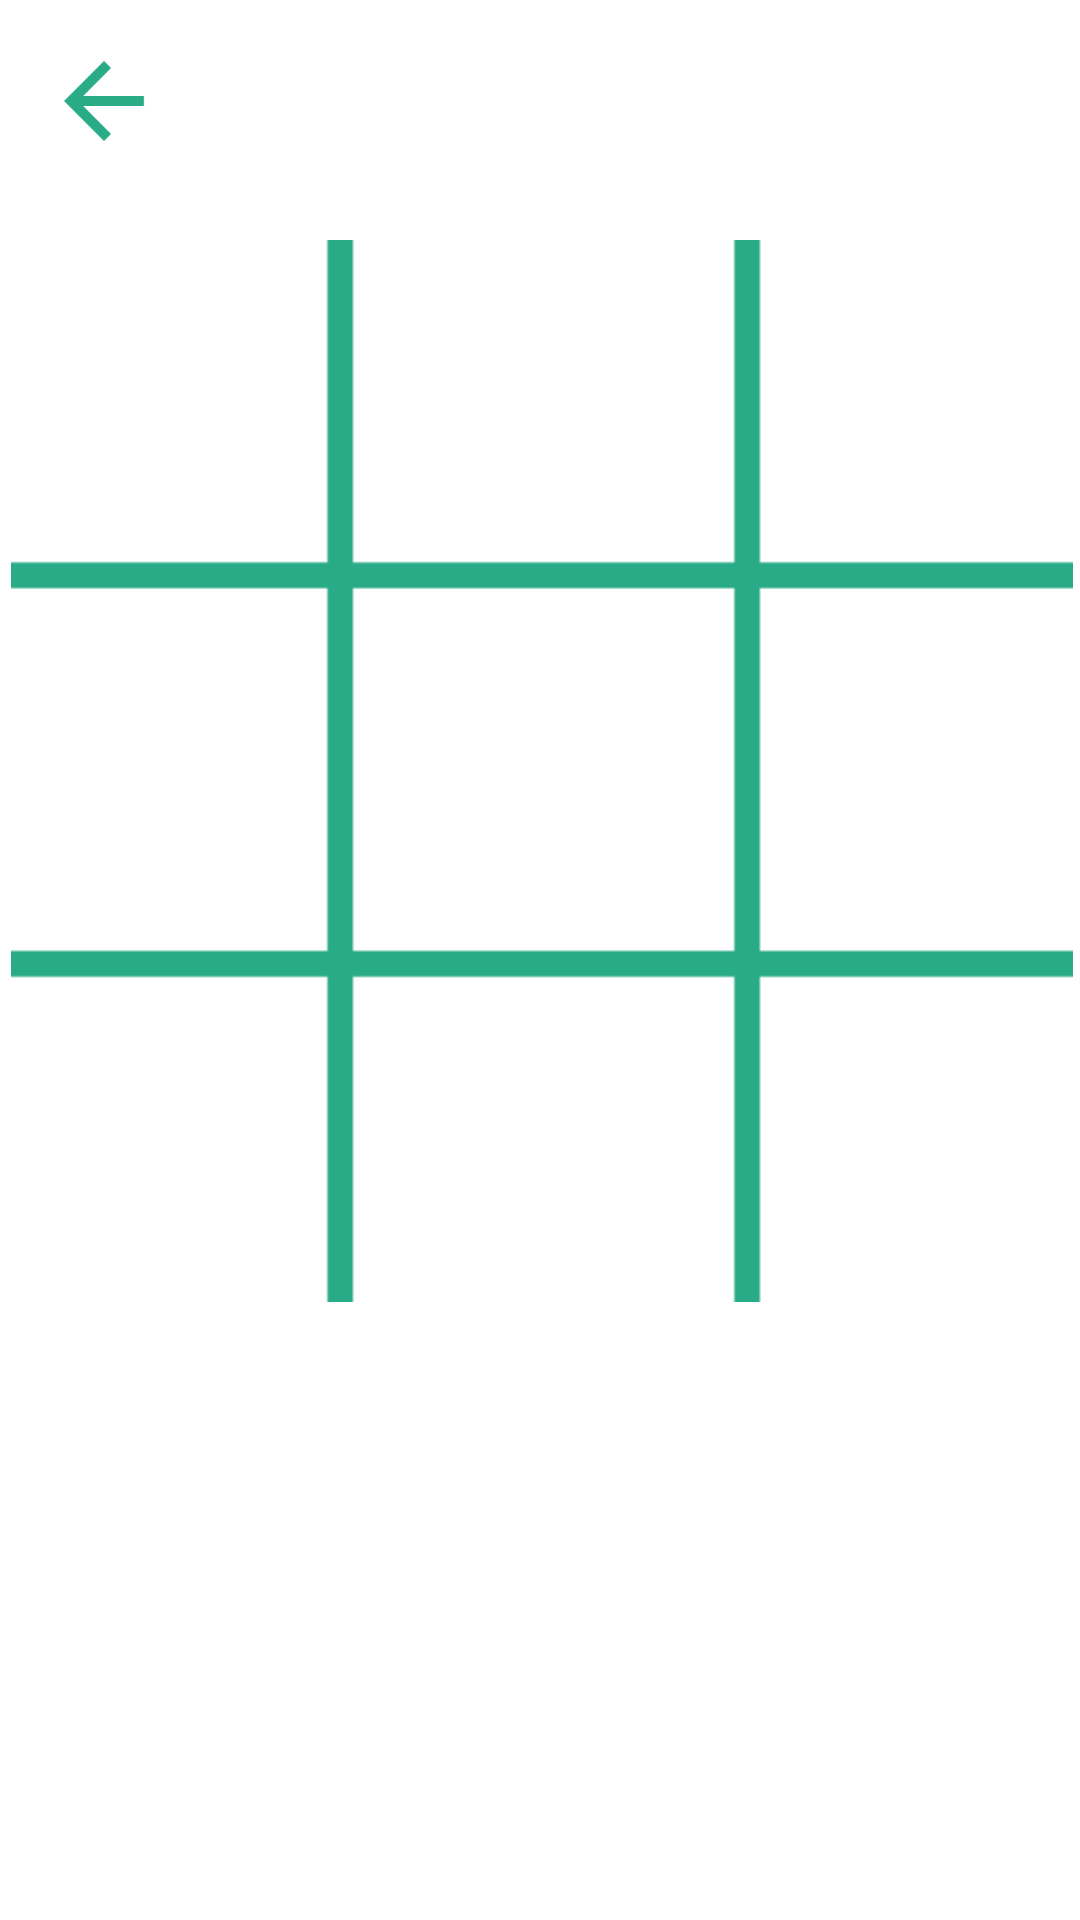

Icons on this 1080px×1920px Android screen, each with the point to tap as [x,y]:
arrow back: [104,101]
